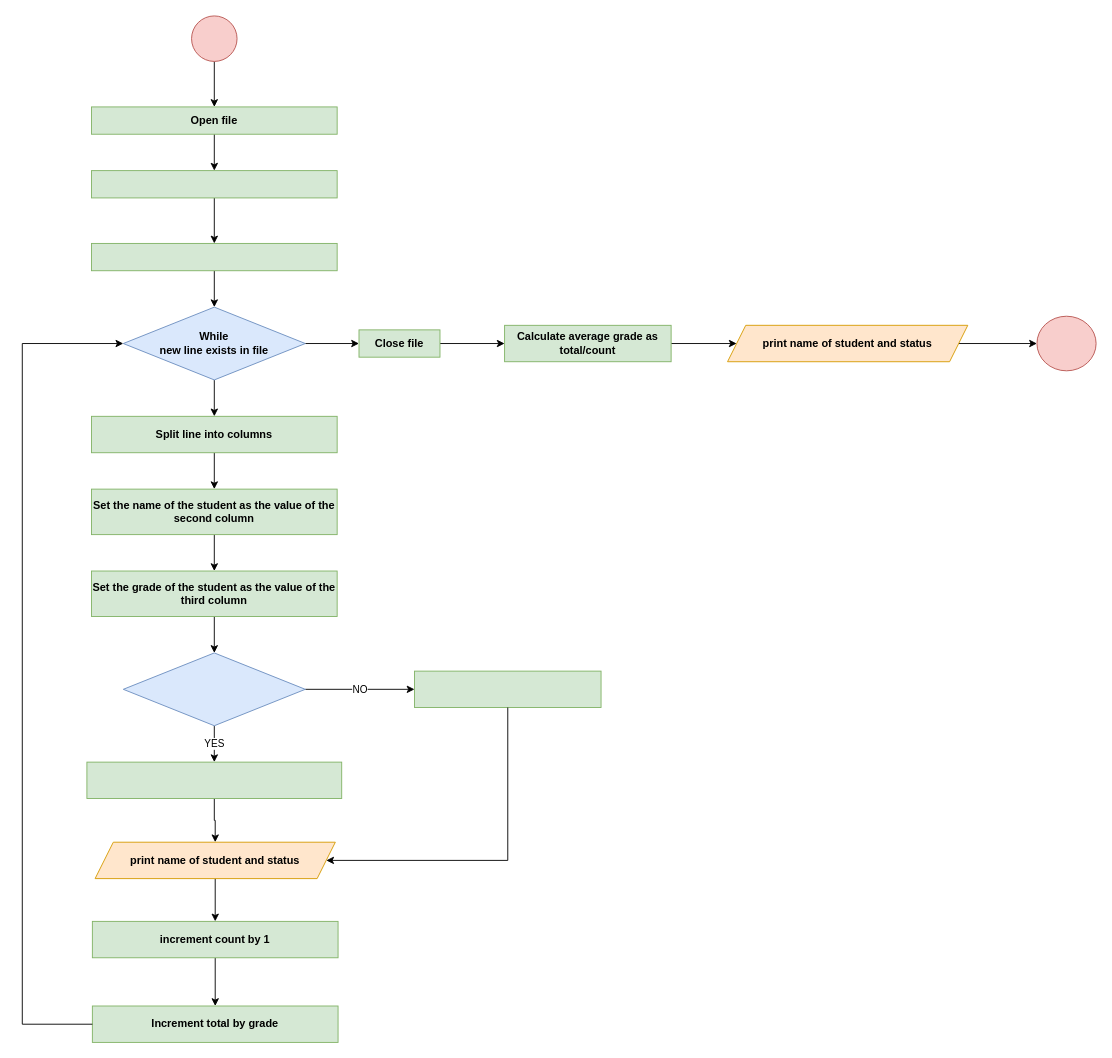
This 1112x1058 diagram has some shape labels left out. The box of each missing label's shape, as (x1, y1, x2, y2) in pixels:
Init total and count as 0: (91, 243, 337, 271)
is the grade greater or equal than 5?: (122, 652, 305, 726)
Read new line: (91, 170, 337, 198)
Set status as failed: (414, 670, 601, 708)
Set status as passed: (86, 761, 342, 799)
